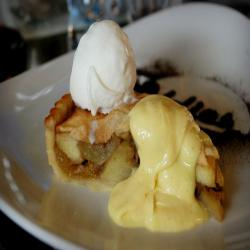apple_pie: (37, 82, 236, 228)
chantilly: (115, 96, 204, 237)
icecream: (67, 19, 143, 122)
